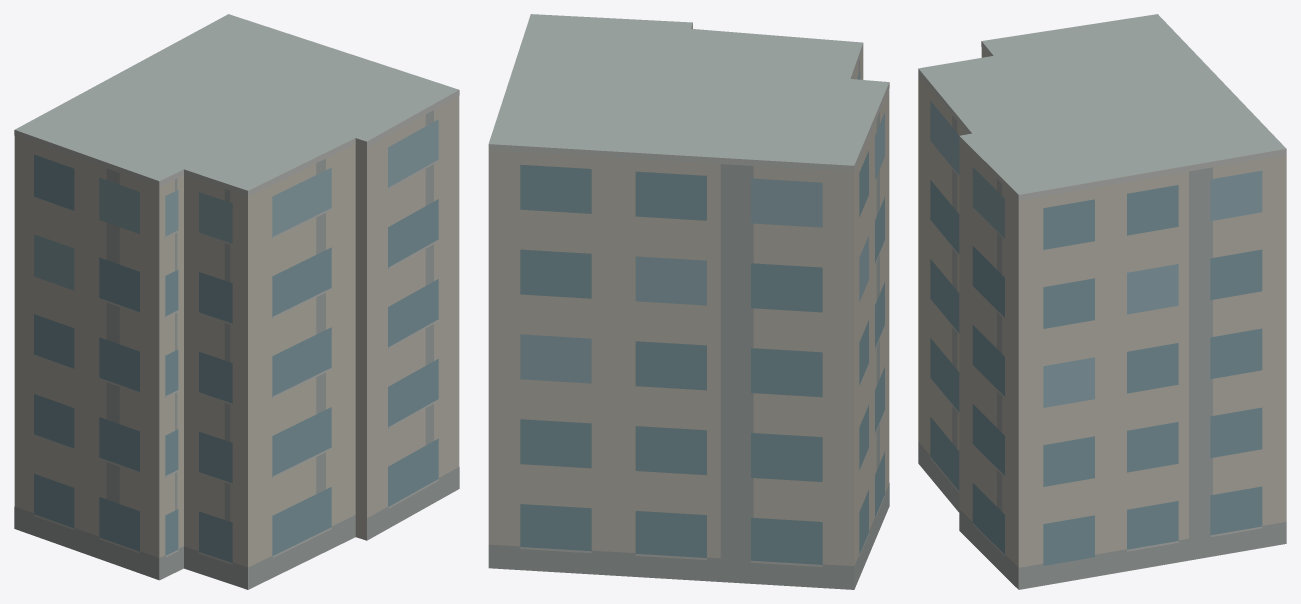
The model's file is survey-upis-32846406.glb.
3 renders of one model, left to right at view 1: azimuth 30°, elevation 25°; view 2: azimuth 150°, elevation 25°; view 3: azimuth 270°, elevation 25°, orthographic. The views are drawn at different scales.
Visible parts, largest first — view 1: survey-upis-32846406.tmp; view 2: survey-upis-32846406.tmp; view 3: survey-upis-32846406.tmp.
Part boxes in pixels (box(x1,y1,x2,y2)): survey-upis-32846406.tmp: box(14, 14, 459, 589); survey-upis-32846406.tmp: box(488, 14, 889, 589); survey-upis-32846406.tmp: box(918, 14, 1286, 589).
Size of the model in its own units: 16.32 by 16.6 by 14.04.
